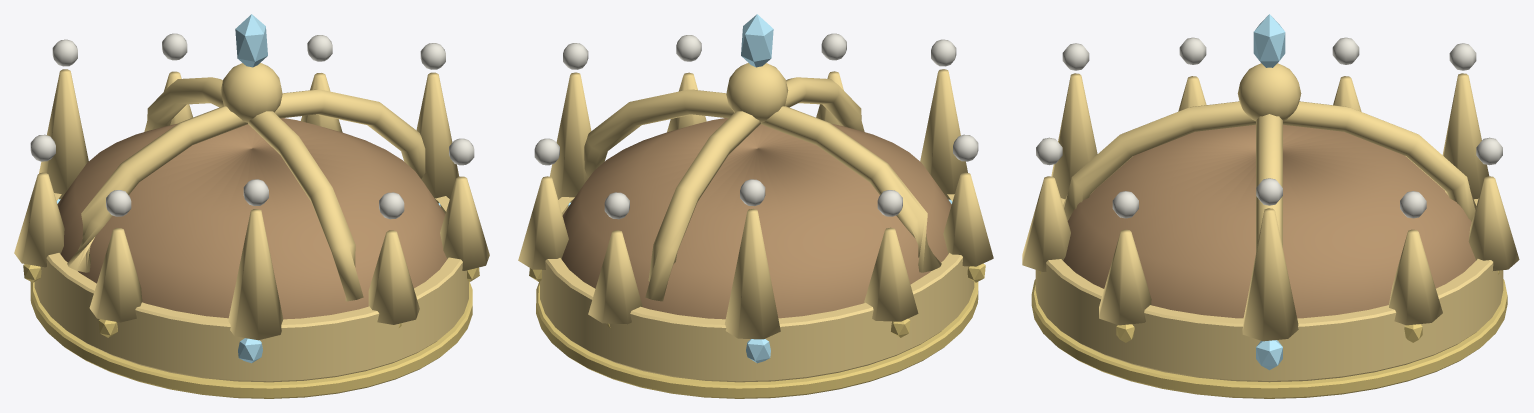
Rendered from helm_krone2.glb.
The picture shows the model from 3 angles, left to right: view 1: azimuth 30°, elevation 25°; view 2: azimuth 150°, elevation 25°; view 3: azimuth 270°, elevation 25°; orthographic projection.
Parts seen in each view (by area): view 1: G_helm_krone2; view 2: G_helm_krone2; view 3: G_helm_krone2.
Boxes of the visible parts, x1,y1,x2,y2 form: G_helm_krone2: (14, 14, 489, 398); G_helm_krone2: (518, 14, 993, 398); G_helm_krone2: (1022, 14, 1519, 398).
Size of the model in its own units: 0.2523 by 0.173 by 0.2662.
